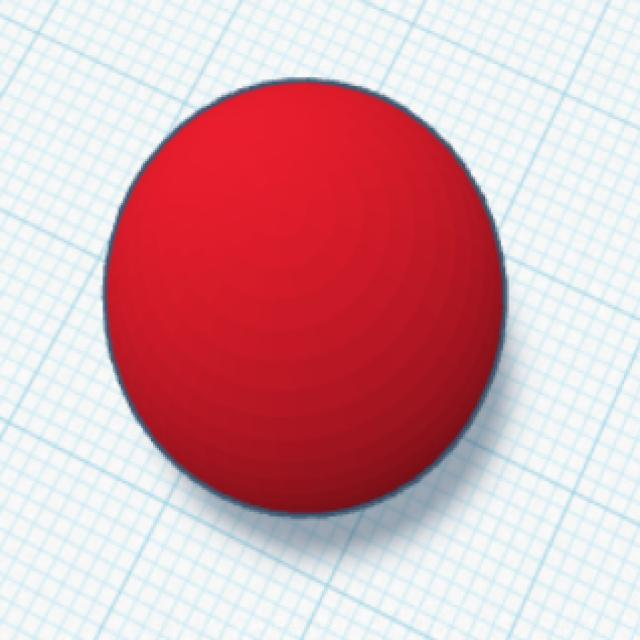sphere: (99, 74, 512, 522)
